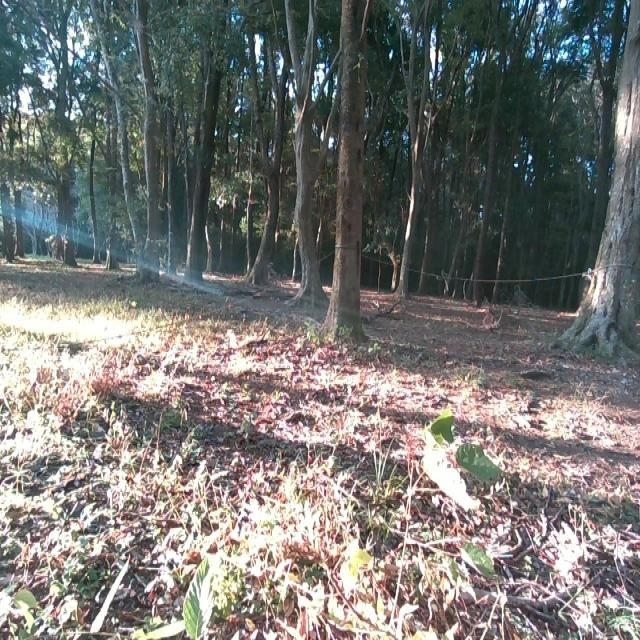tree: (573, 1, 640, 360), (103, 0, 168, 295), (324, 0, 374, 351), (182, 0, 225, 290), (285, 0, 324, 314), (391, 0, 428, 308), (246, 0, 281, 285)
